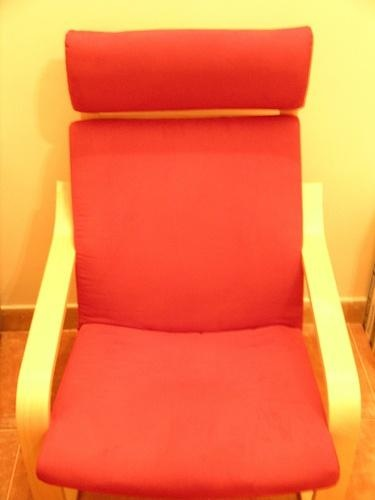chair: (11, 26, 366, 500)
